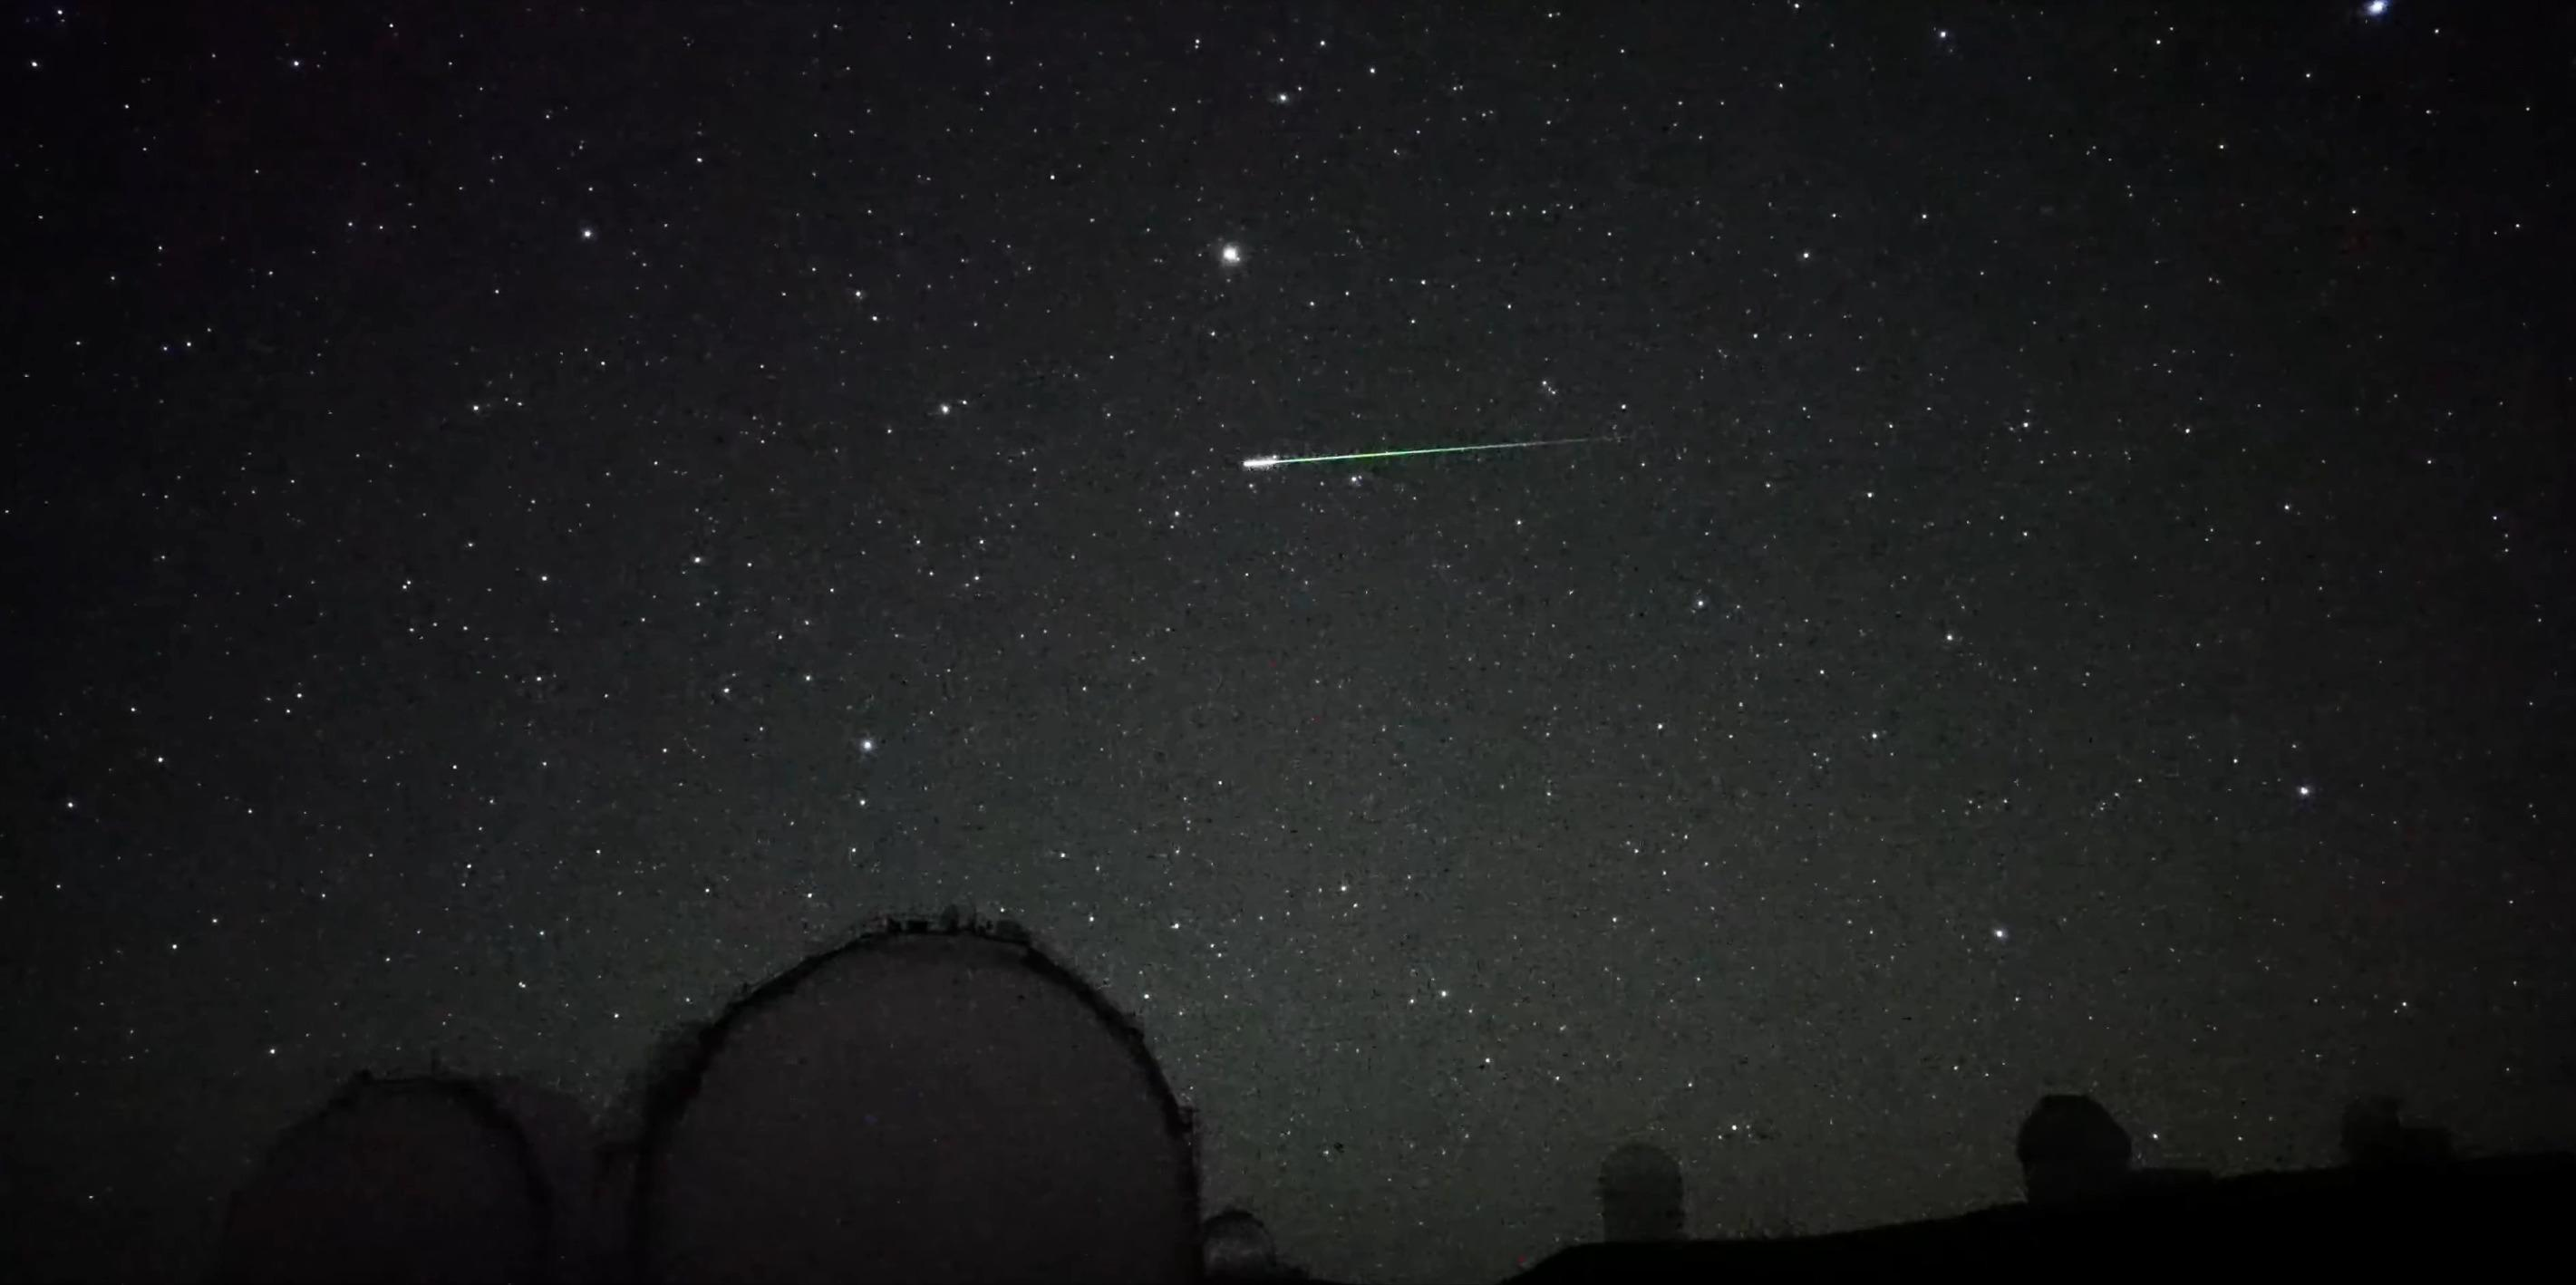meteorite: (1216, 427, 1638, 477)
